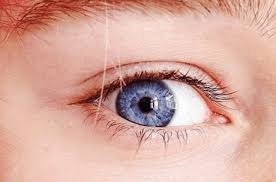pupil: (117, 79, 175, 126)
